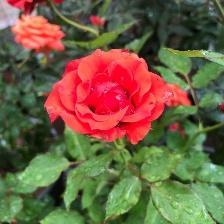rose: (46, 49, 170, 148)
